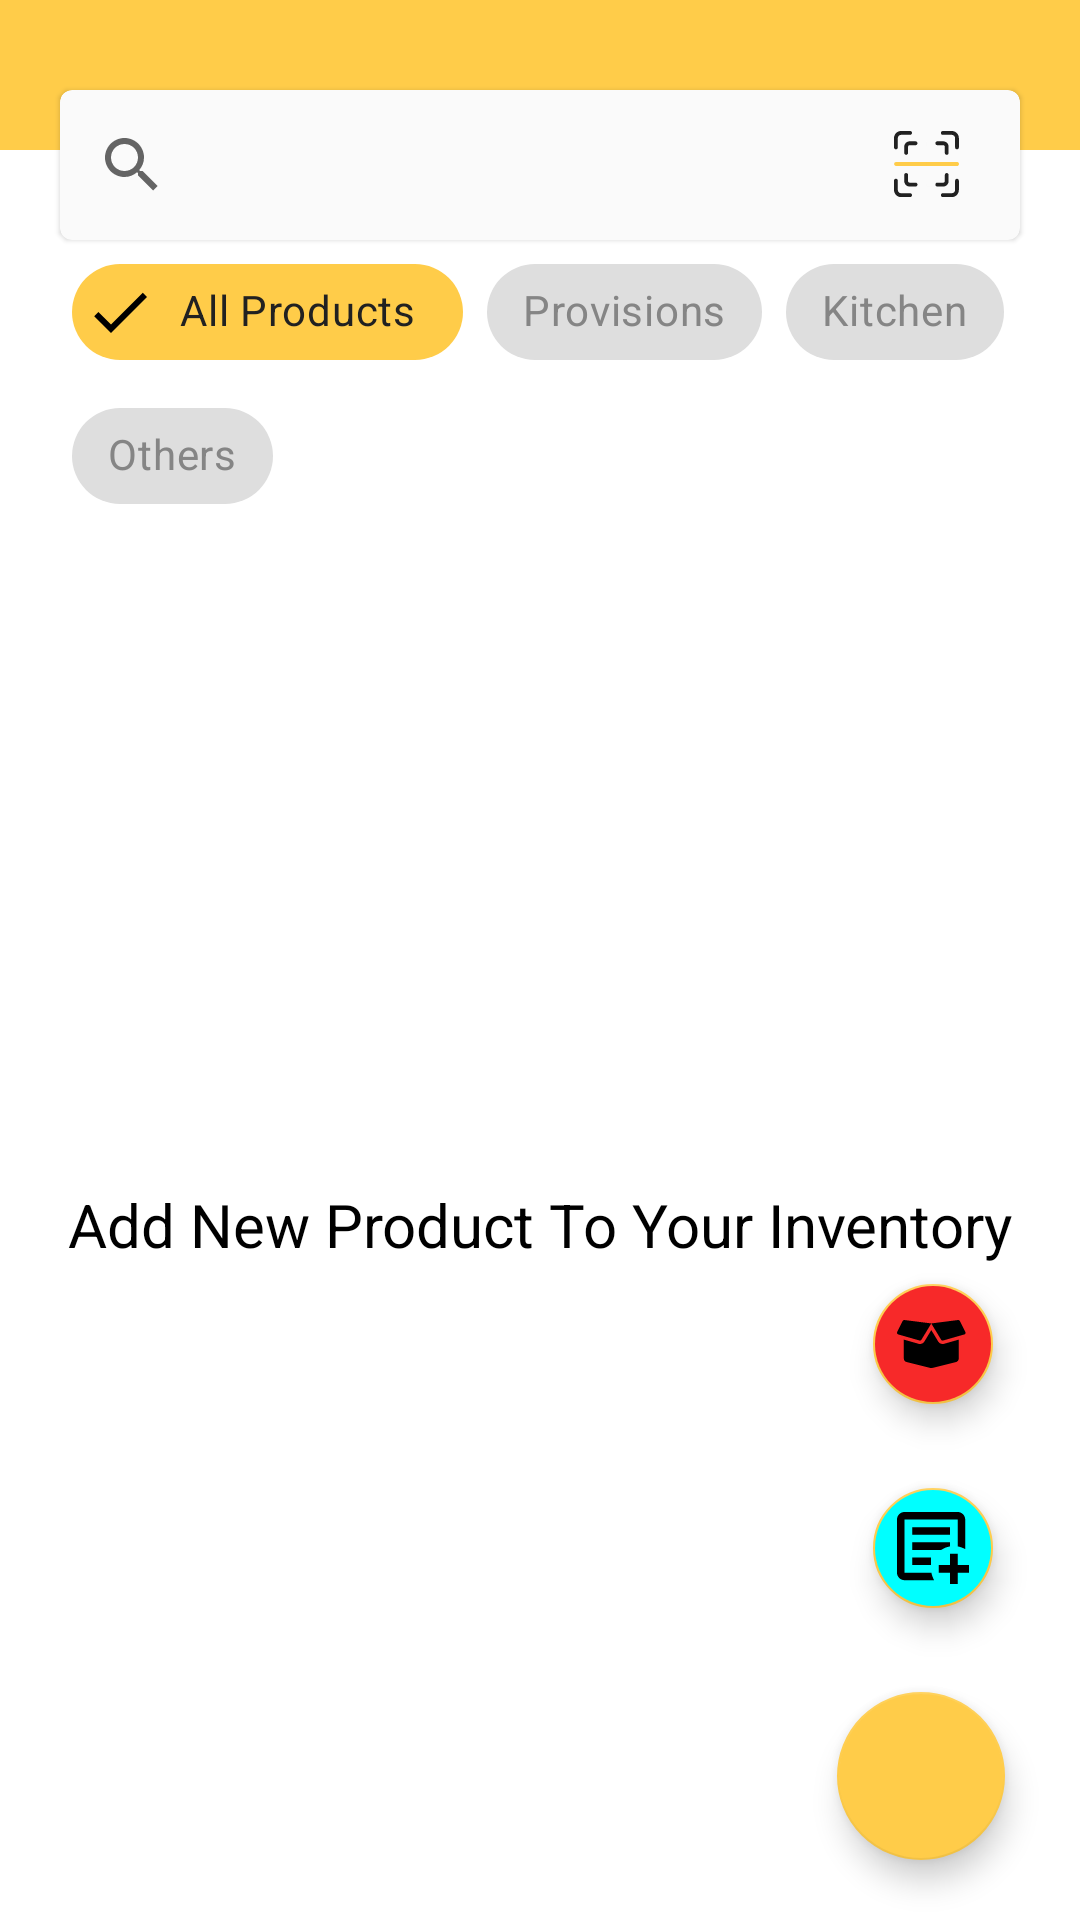

Icons on this 1080 × 1920 Android screen, each with the point to tap as point (x, y):
create group: point (934, 1554)
create item: point (934, 1349)
scan to search iconstocka: point (926, 164)
